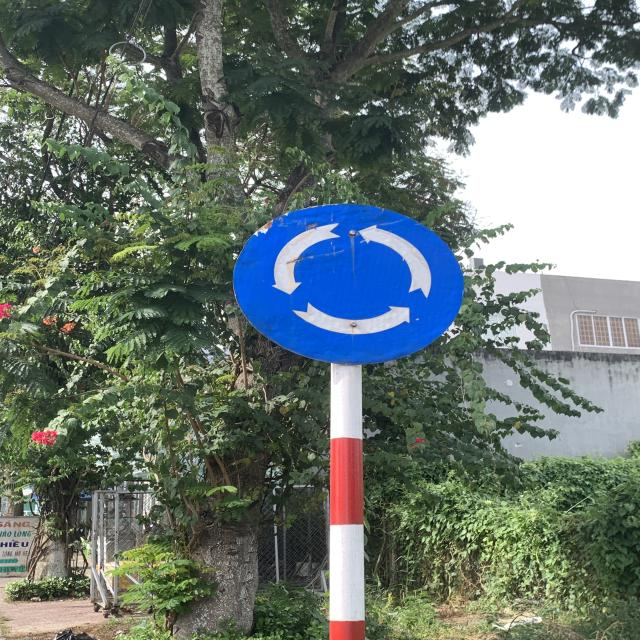Xe_Bus: (233, 202, 465, 366)
